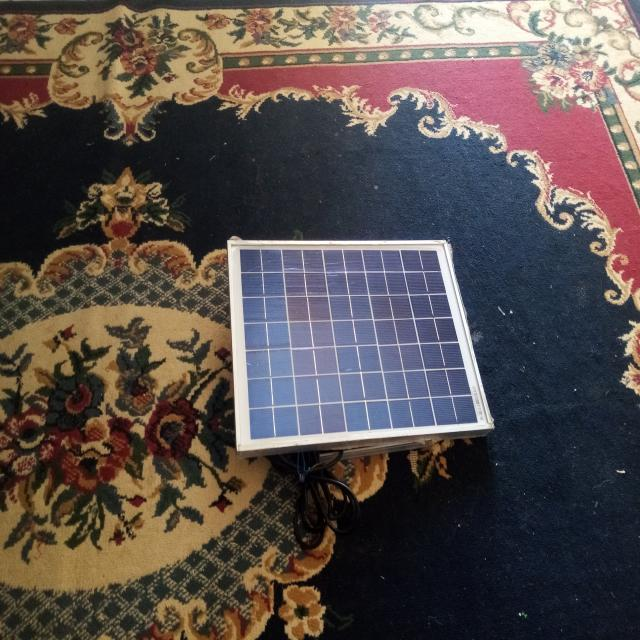no faulty: (228, 239, 493, 451)
